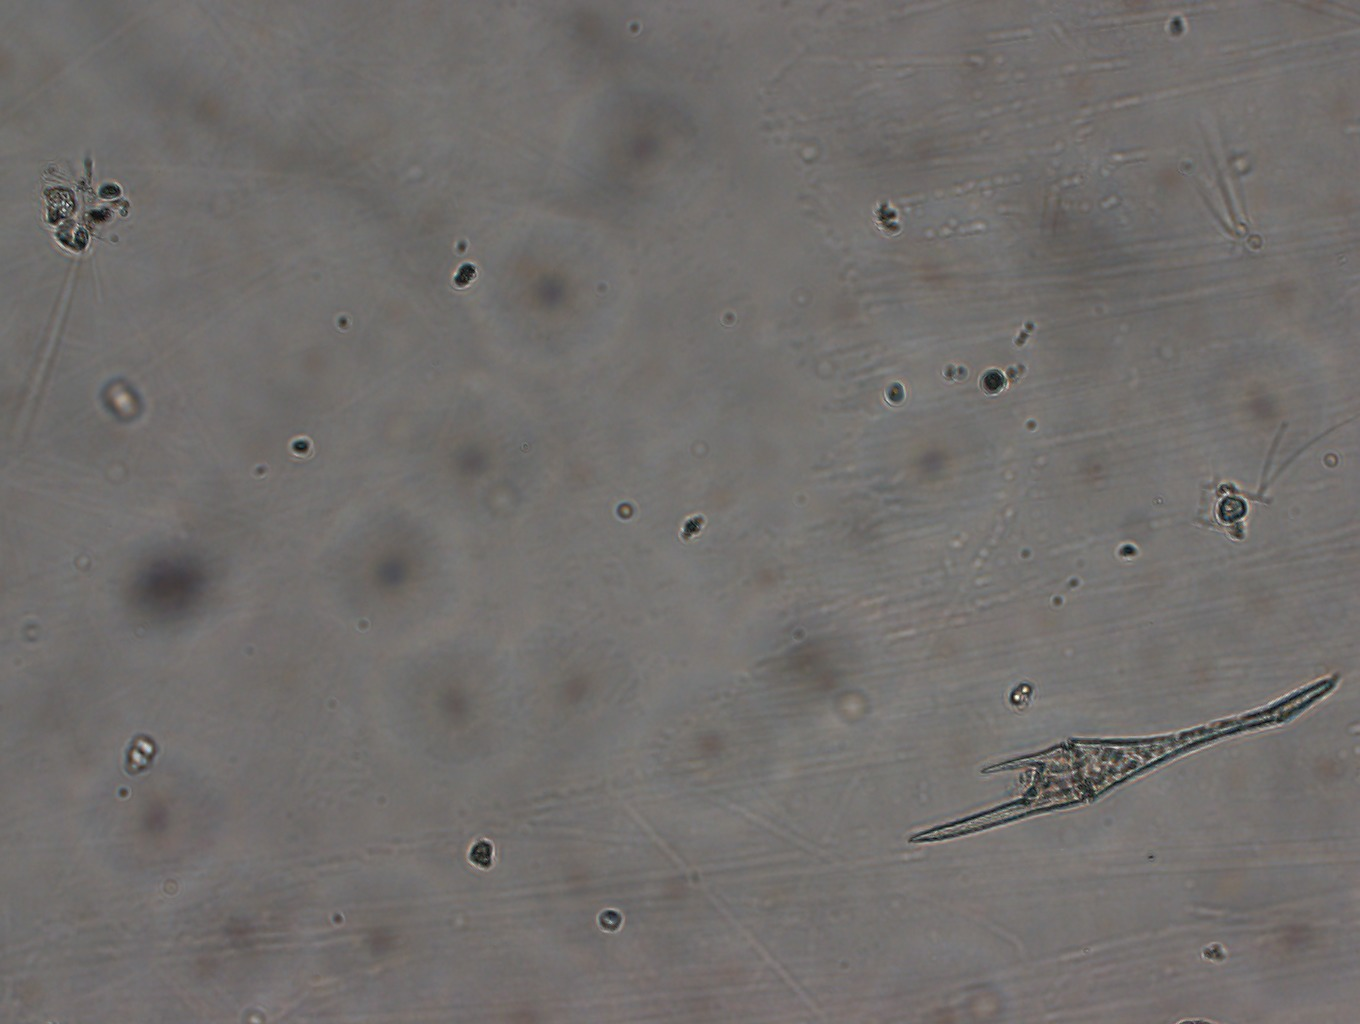ceratium furca: (901, 652, 1349, 848)
